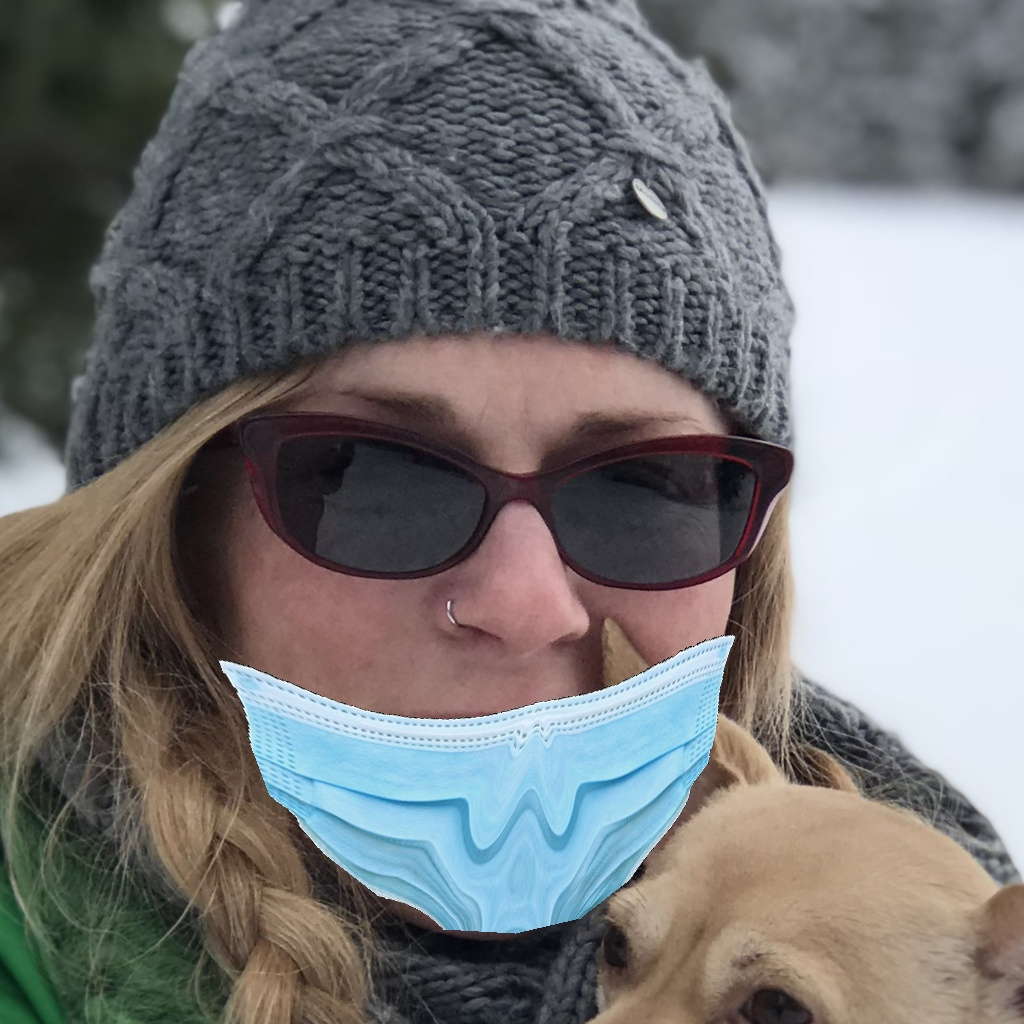mascarilla_mal_puesta: (142, 375, 784, 953)
